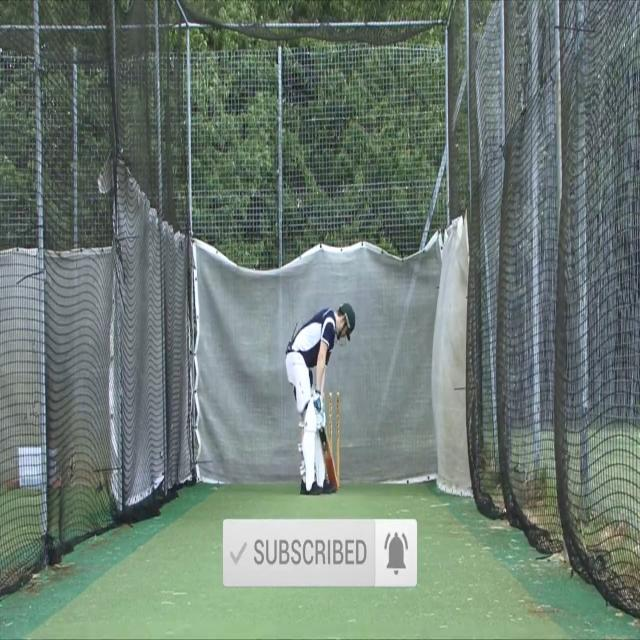batsman: (284, 299, 356, 499)
